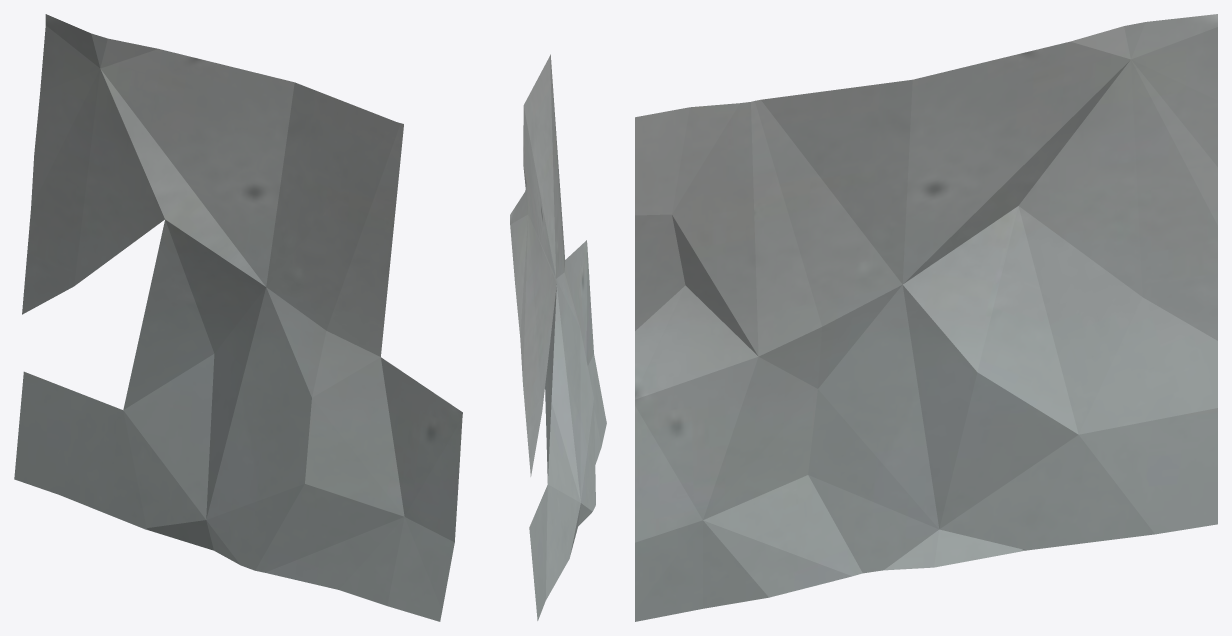
3 views of the same model, side by side, from view 1: azimuth 30°, elevation 25°; view 2: azimuth 150°, elevation 25°; view 3: azimuth 270°, elevation 25° (orthographic). The views are drawn at different scales.
Bounding box in the file's own units: 0.4113 × 0.8374 × 0.8374.
Materials: 3 (3 with a texture image).
